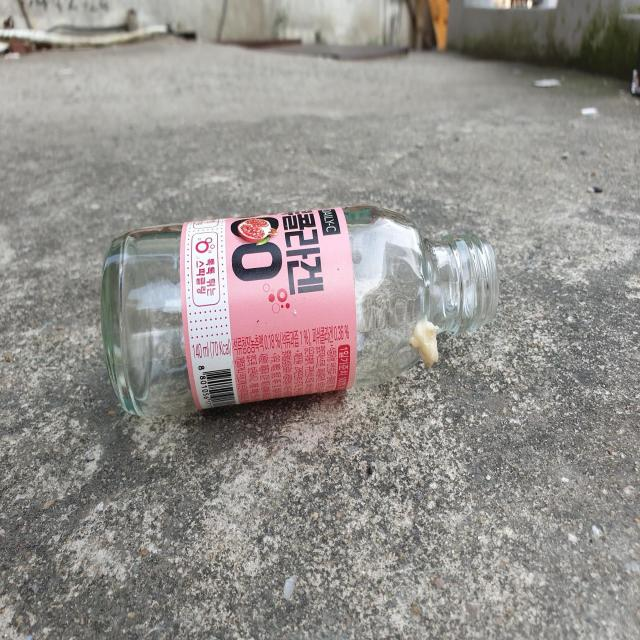glass: (100, 205, 499, 416)
